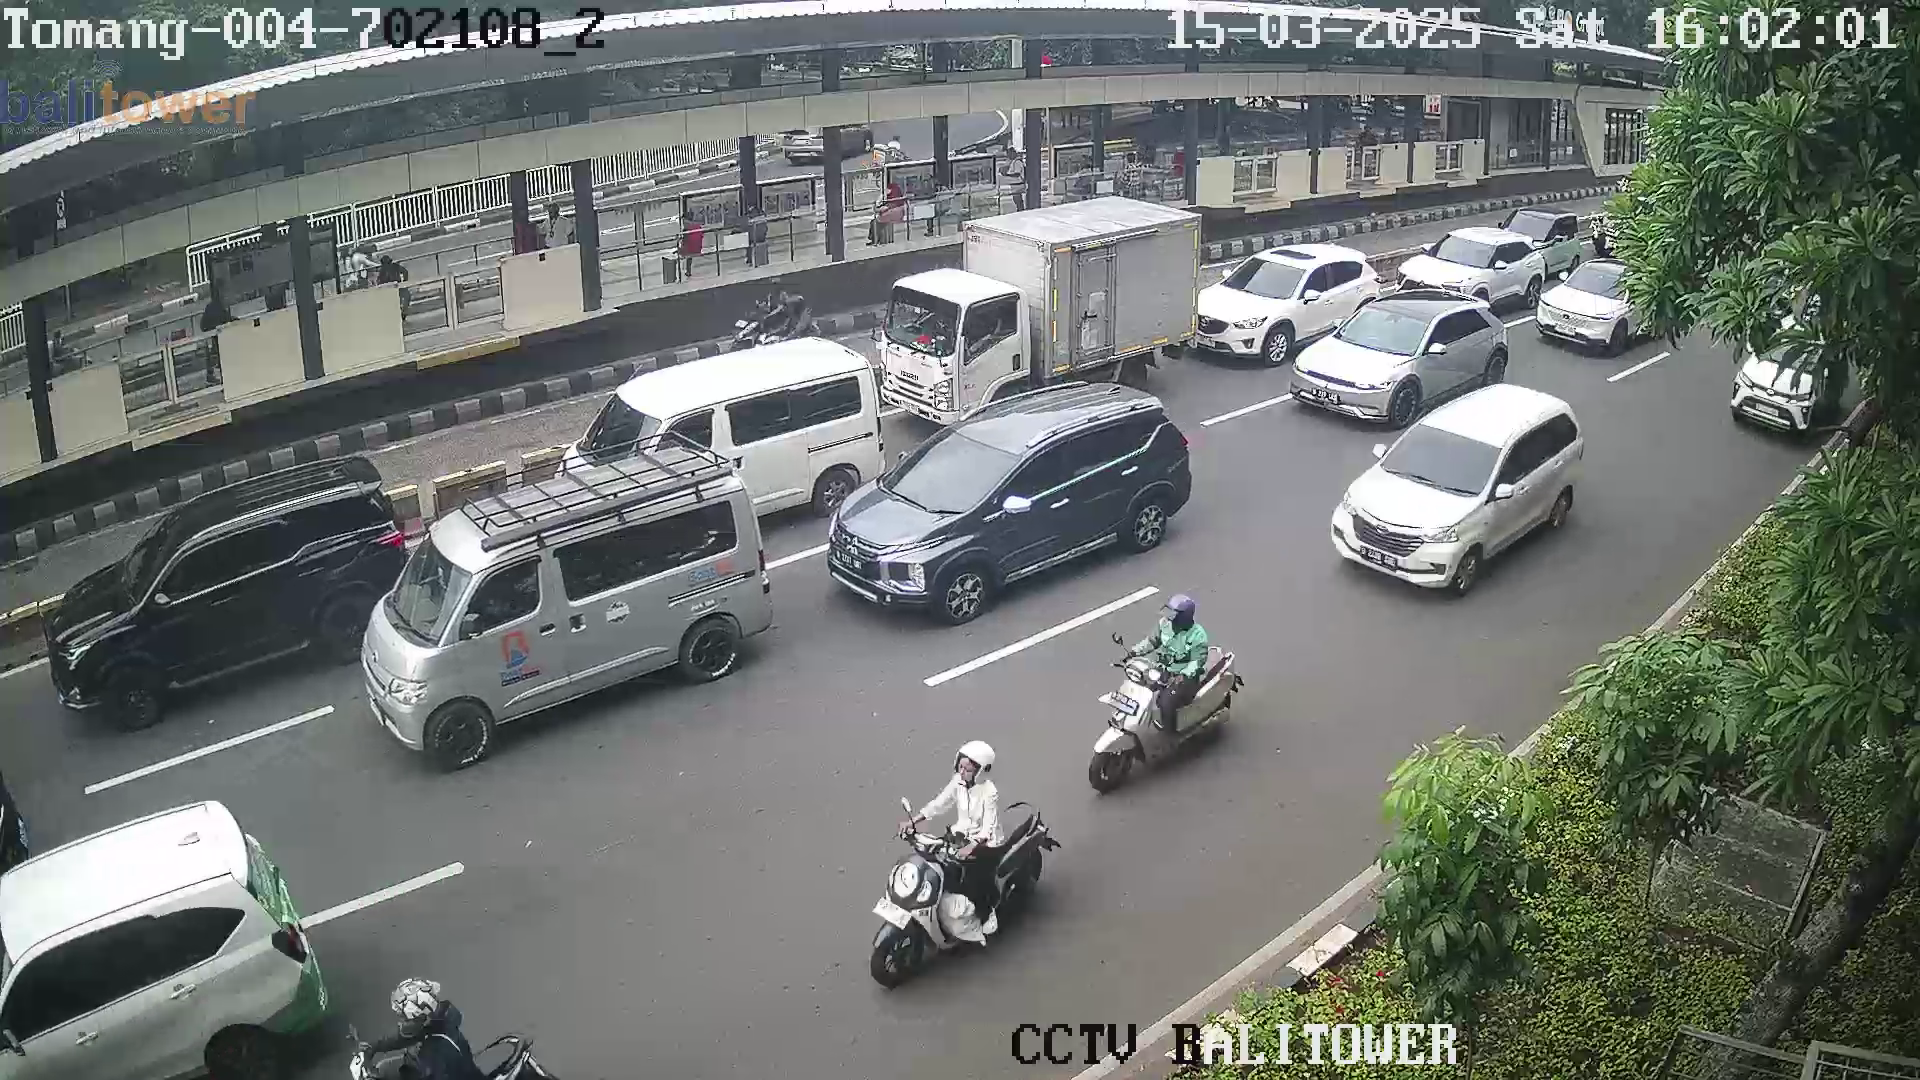full-face helmet: (384, 973, 445, 1043)
half-face helmet: (955, 731, 1002, 790), (1155, 590, 1208, 639)
